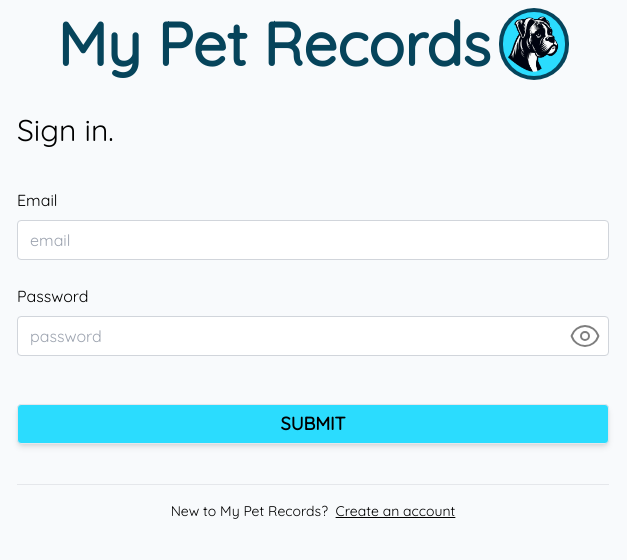
Test: SigninPage › displays error message on incorrect login credentials
In the field named "email": {"x": 313, "y": 240} [17,220,609,260], type "invalid@example.com"
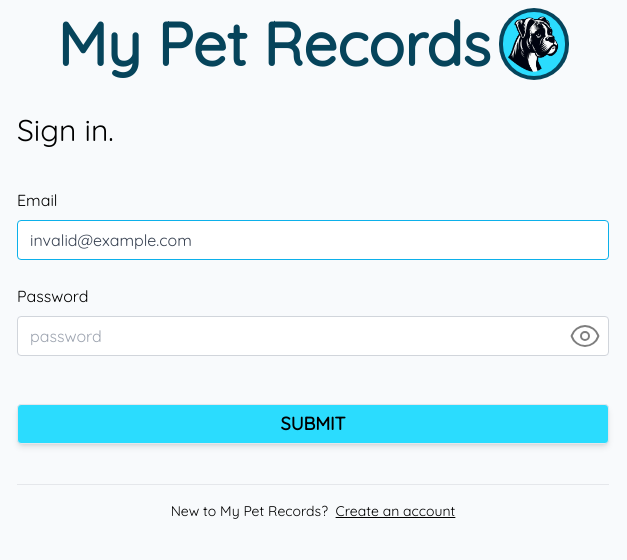
In the password field named "password": {"x": 313, "y": 336} [17,316,609,356], type "WHOMEVER-sortie-pinto-dully-deflect"
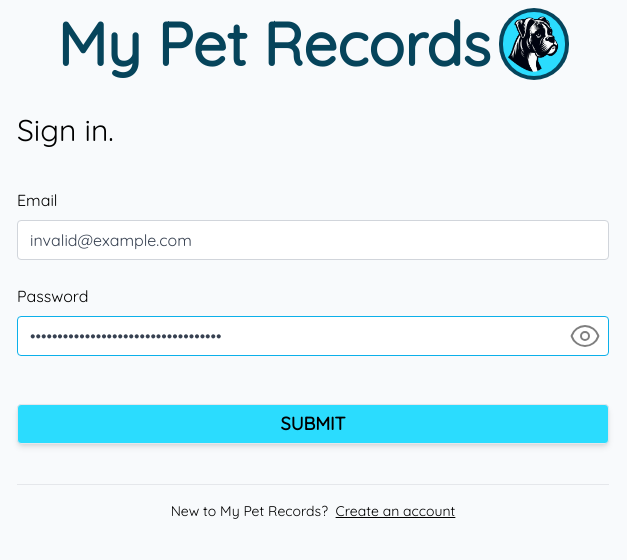
Click the submit button: {"x": 313, "y": 425} [17,404,609,445]
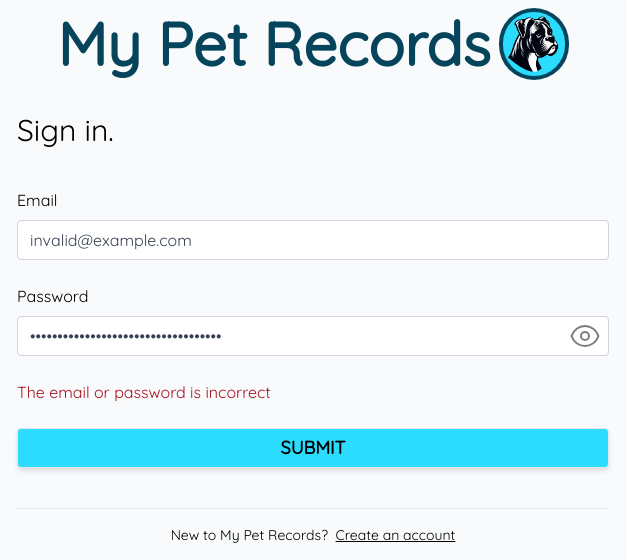
Expected: the text "The email or password is incorrect" is shown, [17,382,271,402]
